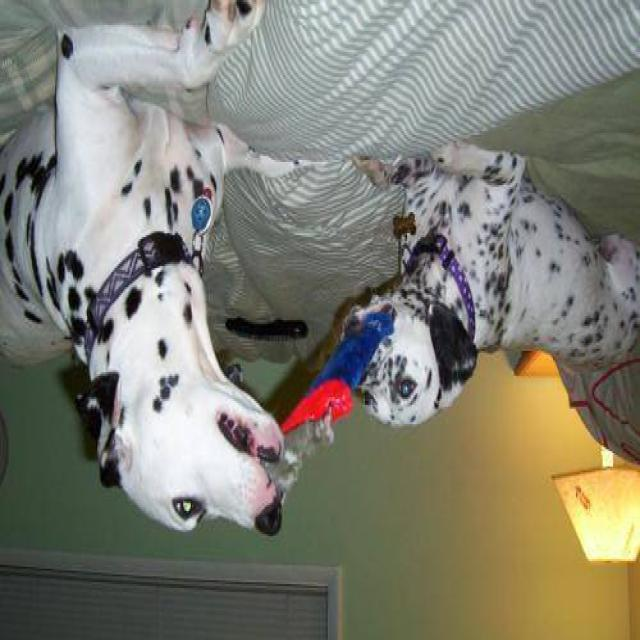dog: (345, 103, 640, 478)
